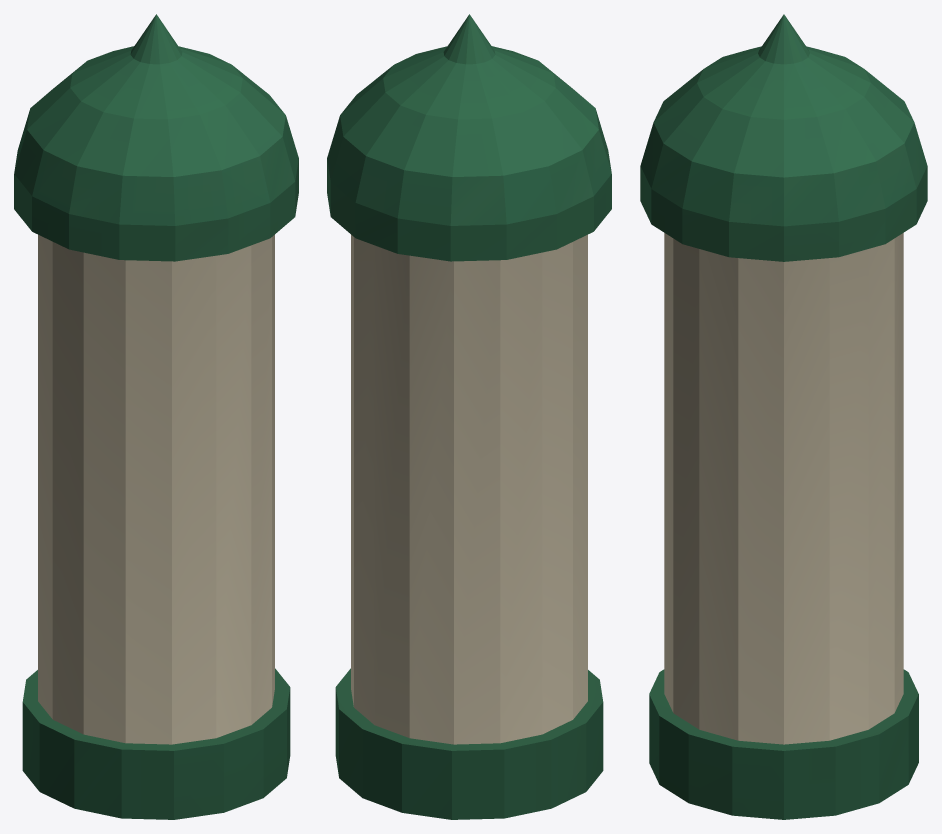
File: pa_column-D8oKHe-E.glb
3 renders of one model, left to right at view 1: azimuth 30°, elevation 25°; view 2: azimuth 150°, elevation 25°; view 3: azimuth 270°, elevation 25°, orthographic.
Bounding box in the file's own units: 1.32 × 3.8 × 1.32.
